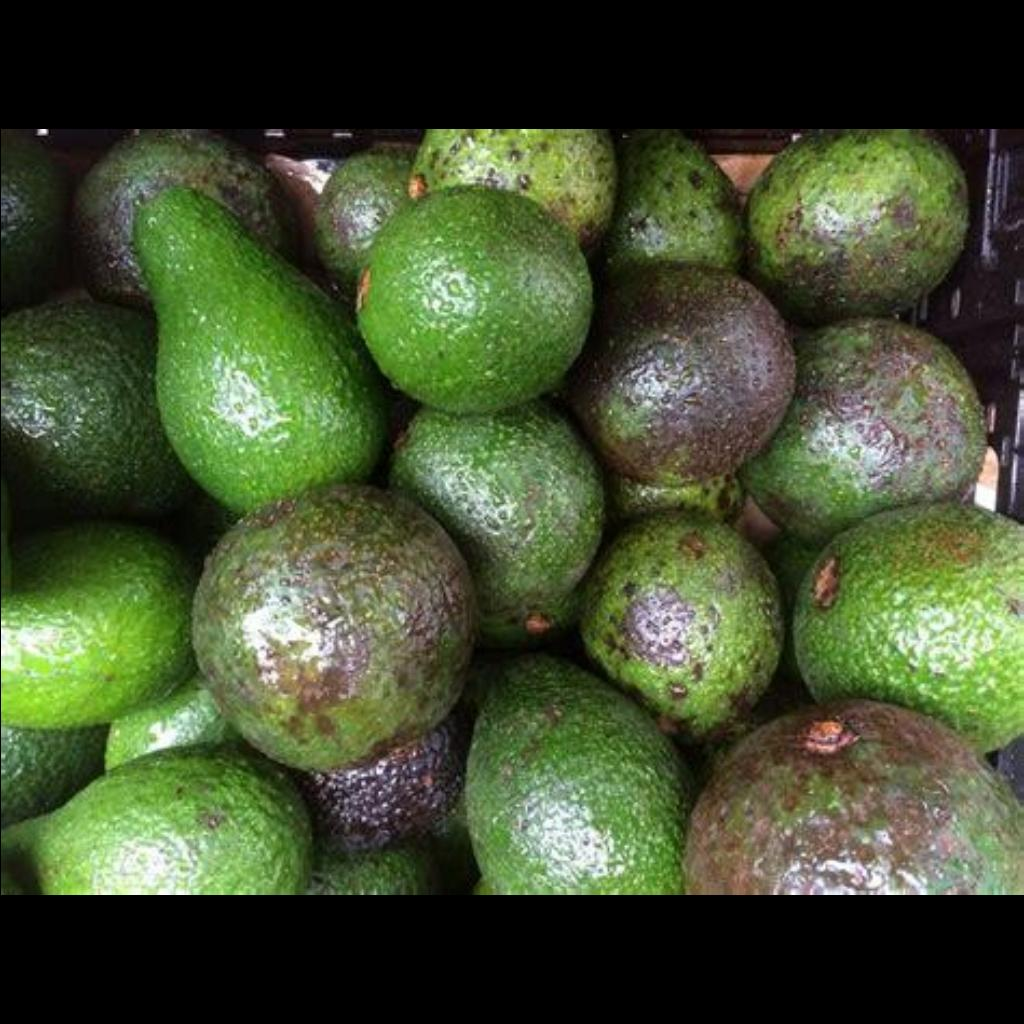antracnosis_fruto: (162, 516, 464, 786), (630, 700, 1010, 897), (791, 170, 979, 498), (610, 242, 798, 501)
